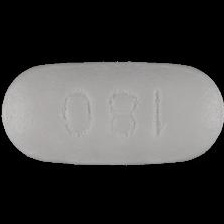0074-3061: (0, 0, 224, 224)
